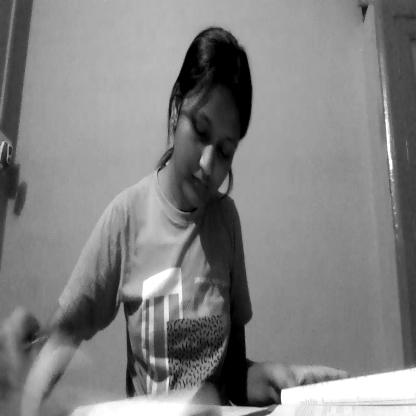Distracted: (164, 32, 259, 228)
